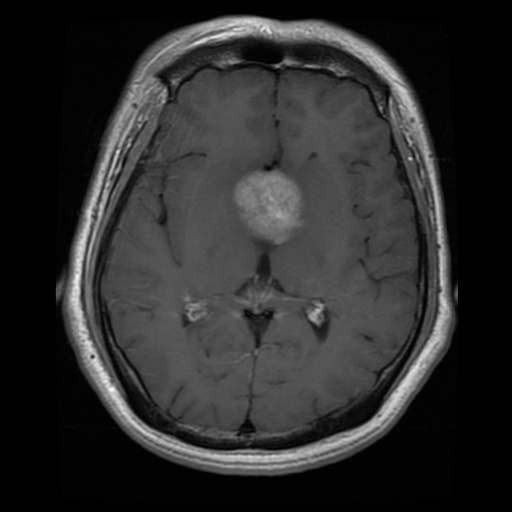pituitary: (236, 169, 303, 241)
